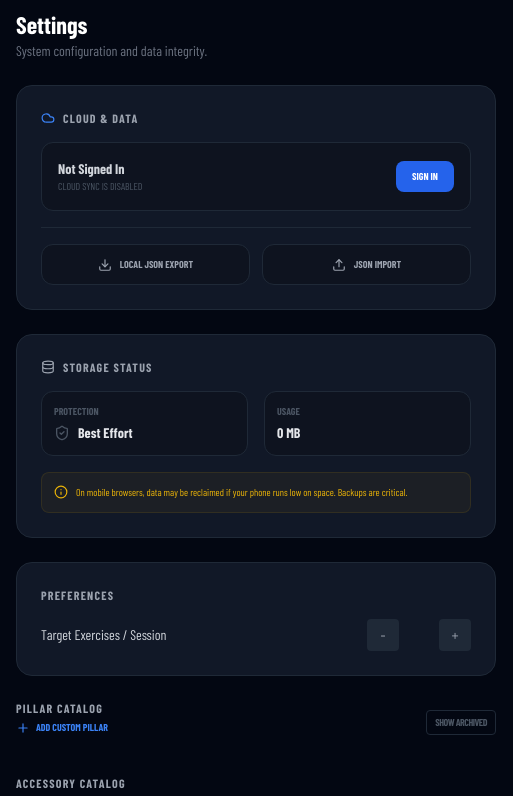
Scenario: Settings Component › shows auth form when Sign In is clicked
This screenshot has width=513, height=796.
Expected: the text "Not Signed In" is shown, [58,160,125,177]
Click the button "Sign In" at (425, 176), box [396,161,454,192]
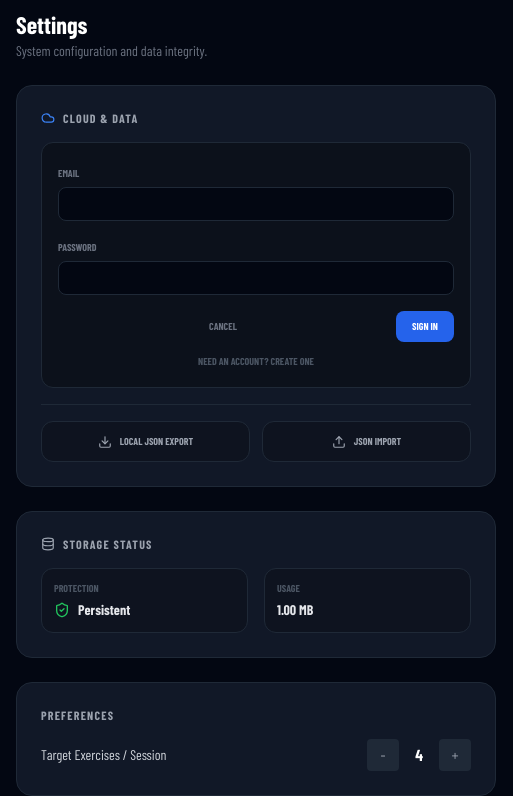
Result: the field labelled "Email" is shown at [58,187,454,221]
Result: the password field labelled "Password" is shown at [58,261,454,295]
